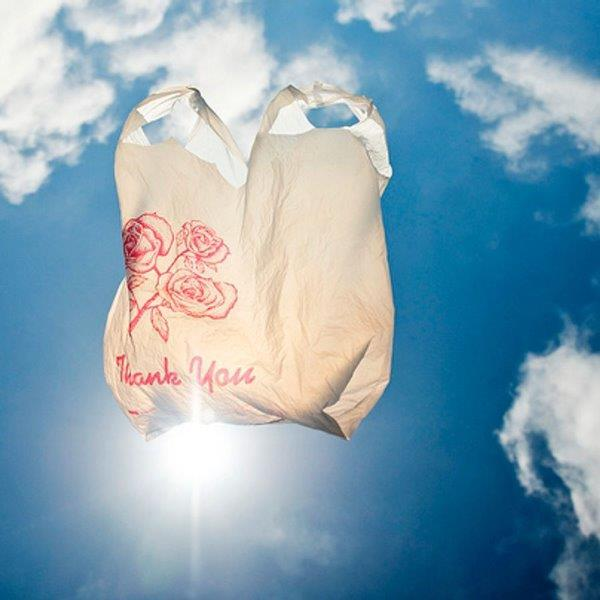plastic: (105, 82, 391, 439)
